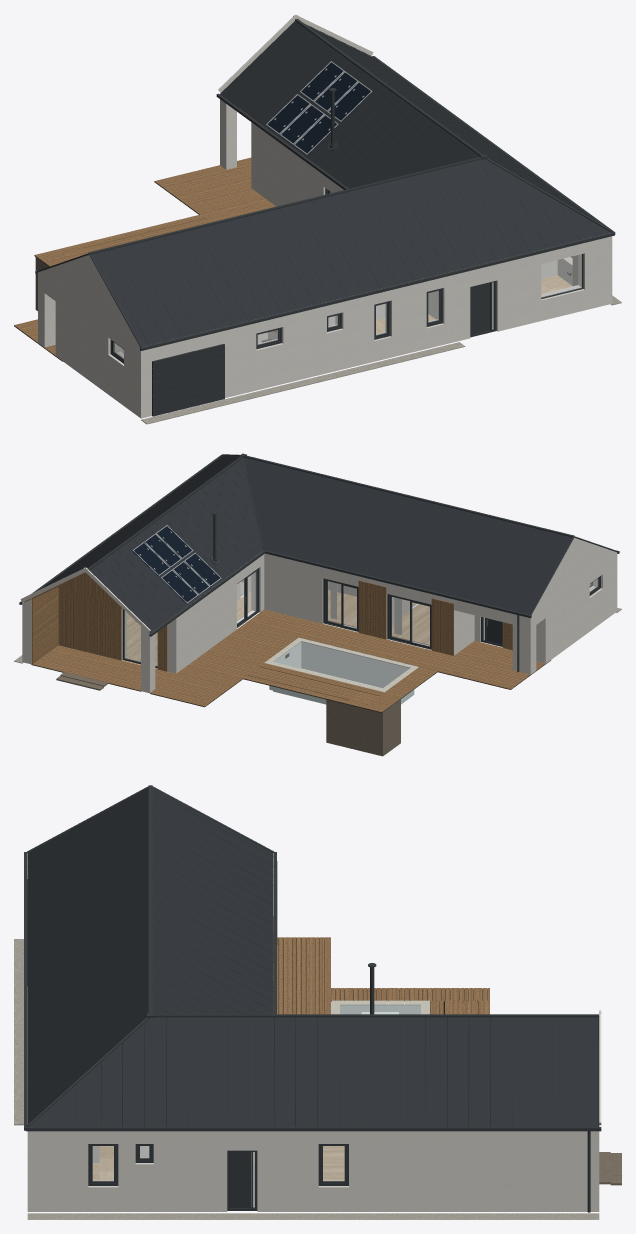
The model's file is dom-architecture.glb.
3 views of the same model, one above another, from view 1: azimuth 30°, elevation 25°; view 2: azimuth 150°, elevation 25°; view 3: azimuth 270°, elevation 25° (orthographic). The views are drawn at different scales.
Parts seen in each view (by area): view 1: DOM_01353 | Spojená strešná rovina · MAIN_FRONT, DOM_01355 | Spojená strešná rovina · WING_INNER, DOM_00113 | Garážový štít · plášť 4, DOM_00118 | Západná stena krídla · plášť 3, DOM_01580 | Terasa D1 · západné rameno krídla · 33,10 m², DOM_01356 | Spojená strešná rovina · WING_OUTER, DOM_00087 | Južná fasáda · plášť 17, DOM_00076 | Južná fasáda · plášť 6, DOM_00060 | Garážový štít, DOM_00082 | Južná fasáda · plášť 12, DOM_00079 | Južná fasáda · plášť 9, DOM_01684 | Kačírek · južná fasáda (+27 smaller); view 2: DOM_01354 | Spojená strešná rovina · MAIN_GARDEN, DOM_01355 | Spojená strešná rovina · WING_INNER, DOM_01580 | Terasa D1 · západné rameno krídla · 33,10 m², DOM_01578 | Záhradná terasa · aktívne 30,60 m² · D1 34,80 m², DOM_00118 | Západná stena krídla · plášť 3, DOM_01589 | Bazénová drevená terasa · 1 m pozdĺžne / 2 m za , DOM_00097 | Záhradná fasáda · plášť 7, DOM_00146 | Krytá terasa · plná zadná stena · modřínový obkl, DOM_00113 | Garážový štít · plášť 4, DOM_01595 | Bazén 6,0 × 2,7 m · refrakčná vodná plocha presn, DOM_01583 | Terasa D1 · krytá terasa pod štítom · 16,45 m², DOM_01591 | Bazén 6,0 × 2,7 m · svetlá vnútorná stena 1 (+39 smaller); view 3: DOM_01356 | Spojená strešná rovina · WING_OUTER, DOM_01353 | Spojená strešná rovina · MAIN_FRONT, DOM_01354 | Spojená strešná rovina · MAIN_GARDEN, DOM_00109 | Východná fasáda · plášť 12, DOM_00104 | Východná fasáda · plášť 7, DOM_00106 | Východná fasáda · plášť 9, DOM_01578 | Záhradná terasa · aktívne 30,60 m² · D1 34,80 m², DOM_00098 | Východná fasáda · plášť 1, DOM_01685 | Kačírek · východná fasáda, DOM_01464 | Vonkajšia okapová hrana krídla · vizualizačný pr, DOM_01589 | Bazénová drevená terasa · 1 m pozdĺžne / 2 m za , DOM_01684 | Kačírek · južná fasáda (+16 smaller).
Boxes of the visible parts, x1,y1,x2,y2 form: DOM_01353 | Spojená strešná rovina · MAIN_FRONT: (91,159,610,346); DOM_01355 | Spojená strešná rovina · WING_INNER: (220,21,479,188); DOM_00113 | Garážový štít · plášť 4: (55,285,119,394); DOM_00118 | Západná stena krídla · plášť 3: (251,118,325,206); DOM_01580 | Terasa D1 · západné rameno krídla · 33,10 m²: (154,165,275,222); DOM_01356 | Spojená strešná rovina · WING_OUTER: (306,25,595,220); DOM_00087 | Južná fasáda · plášť 17: (492,251,541,331); DOM_00076 | Južná fasáda · plášť 6: (276,302,326,383); DOM_00060 | Garážový štít: (39,255,139,345); DOM_00082 | Južná fasáda · plášť 12: (385,278,426,357); DOM_00079 | Južná fasáda · plášť 9: (336,292,374,369); DOM_01684 | Kačírek · južná fasáda: (141,342,465,424); DOM_01354 | Spojená strešná rovina · MAIN_GARDEN: (244,457,572,614); DOM_01355 | Spojená strešná rovina · WING_INNER: (89,458,263,633); DOM_01580 | Terasa D1 · západné rameno krídla · 33,10 m²: (150,609,318,706); DOM_01578 | Záhradná terasa · aktívne 30,60 m² · D1 34,80 m²: (299,623,550,689); DOM_00118 | Západná stena krídla · plášť 3: (167,570,236,673); DOM_01589 | Bazénová drevená terasa · 1 m pozdĺžne / 2 m za : (243,663,437,712); DOM_00097 | Záhradná fasáda · plášť 7: (264,553,328,623); DOM_00146 | Krytá terasa · plná zadná stena · modřínový obkl: (58,593,121,660); DOM_00113 | Garážový štít · plášť 4: (536,572,589,663); DOM_01595 | Bazén 6,0 × 2,7 m · refrakčná vodná plocha presn: (274,642,409,687); DOM_01583 | Terasa D1 · krytá terasa pod štítom · 16,45 m²: (32,645,175,691); DOM_01591 | Bazén 6,0 × 2,7 m · svetlá vnútorná stena 1: (301,641,414,695); DOM_01356 | Spojená strešná rovina · WING_OUTER: (29,1017,599,1126); DOM_01353 | Spojená strešná rovina · MAIN_FRONT: (27,788,148,1123); DOM_01354 | Spojená strešná rovina · MAIN_GARDEN: (152,788,273,1014); DOM_00109 | Východná fasáda · plášť 12: (349,1131,599,1211); DOM_00104 | Východná fasáda · plášť 7: (153,1131,227,1211); DOM_00106 | Východná fasáda · plášť 9: (257,1131,318,1211); DOM_01578 | Záhradná terasa · aktívne 30,60 m² · D1 34,80 m²: (277,937,330,1014); DOM_00098 | Východná fasáda · plášť 1: (27,1131,88,1211); DOM_01685 | Kačírek · východná fasáda: (27,1213,599,1219); DOM_01464 | Vonkajšia okapová hrana krídla · vizualizačný pr: (25,1127,601,1131); DOM_01589 | Bazénová drevená terasa · 1 m pozdĺžne / 2 m za : (331,988,489,1014); DOM_01684 | Kačírek · južná fasáda: (14,939,27,1125).
Bounding box in the file's own units: 22.11 × 8.54 × 20.25.
Materials: 52 (24 with a texture image).
